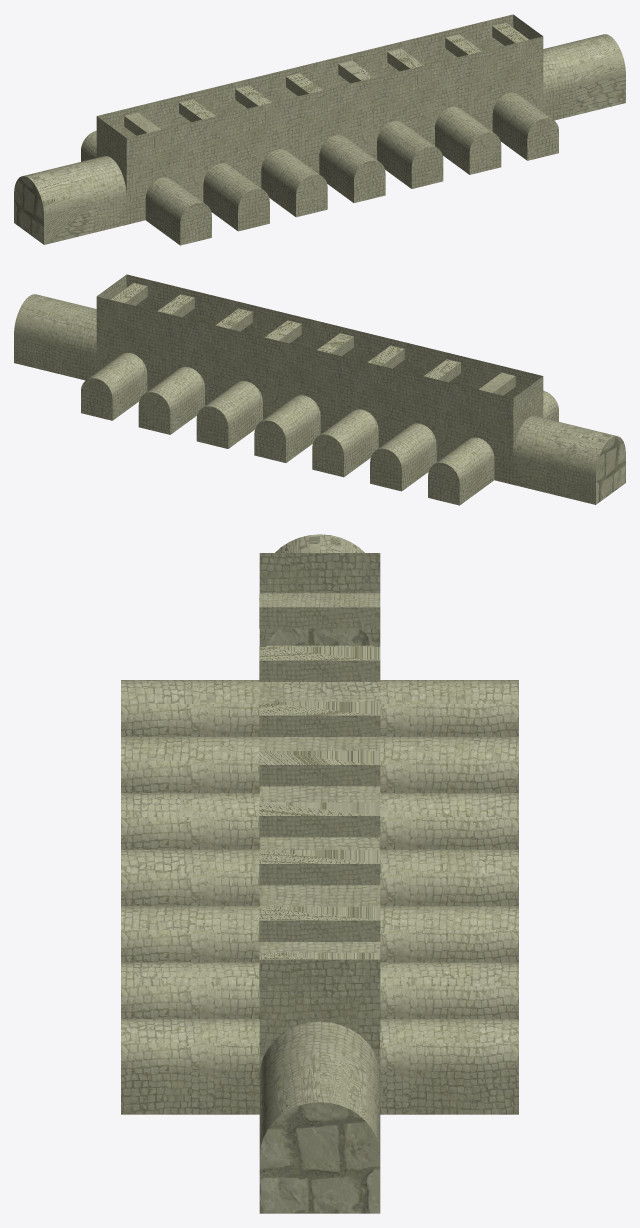
Rendered from SM_Chateaux_13.fbx.
The picture shows the model from 3 angles, top to bottom: view 1: azimuth 30°, elevation 25°; view 2: azimuth 150°, elevation 25°; view 3: azimuth 270°, elevation 25°; orthographic projection. The views are drawn at different scales.
Parts seen in each view (by area): view 1: SM_Chateaux_13, SM_Chateaux_13.002; view 2: SM_Chateaux_13, SM_Chateaux_13.002; view 3: SM_Chateaux_13, SM_Chateaux_13.002.
Part boxes in pixels (box(x1,y1,x2,y2)): SM_Chateaux_13: box(14, 14, 625, 245); SM_Chateaux_13.002: box(124, 23, 536, 148); SM_Chateaux_13: box(14, 274, 625, 505); SM_Chateaux_13.002: box(103, 283, 515, 407); SM_Chateaux_13: box(121, 534, 518, 1213); SM_Chateaux_13.002: box(259, 593, 380, 987).
Size of the model in its own units: 7270 by 1035 by 2151.
